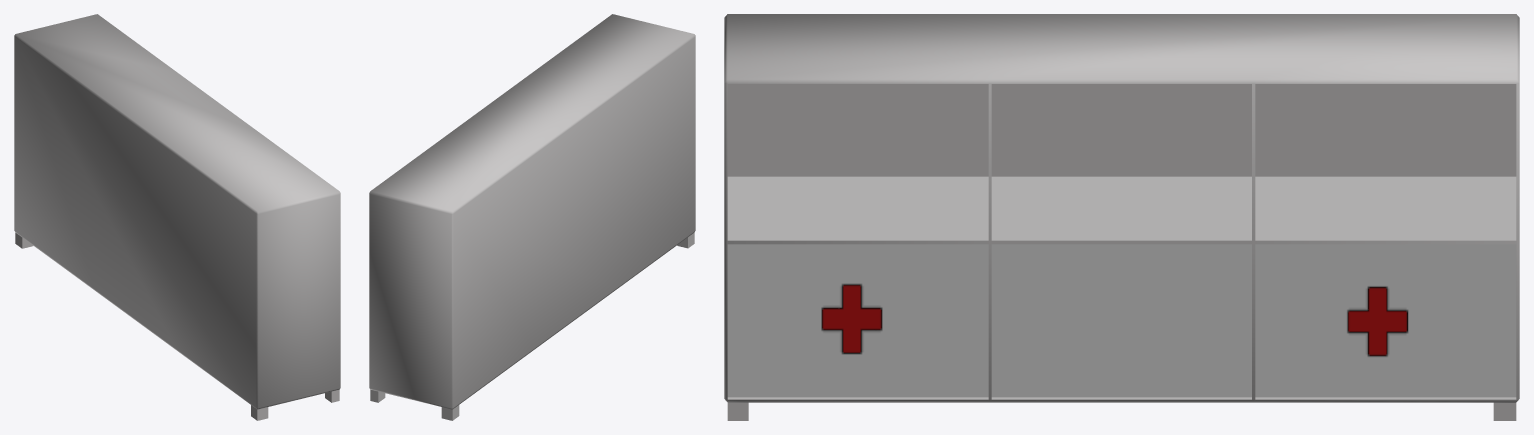
The model's file is drawer3.FBX.
3 views of the same model, side by side, from view 1: azimuth 30°, elevation 25°; view 2: azimuth 150°, elevation 25°; view 3: azimuth 270°, elevation 25° (orthographic). The views are drawn at different scales.
Visible parts, largest first — view 1: ChamferBox001; view 2: ChamferBox001; view 3: ChamferBox001.
Part boxes in pixels (box(x1,y1,x2,y2)): ChamferBox001: box(14, 14, 340, 420); ChamferBox001: box(369, 14, 695, 420); ChamferBox001: box(724, 14, 1519, 420).
Size of the model in its own units: 0.349 by 0.8289 by 1.75.
